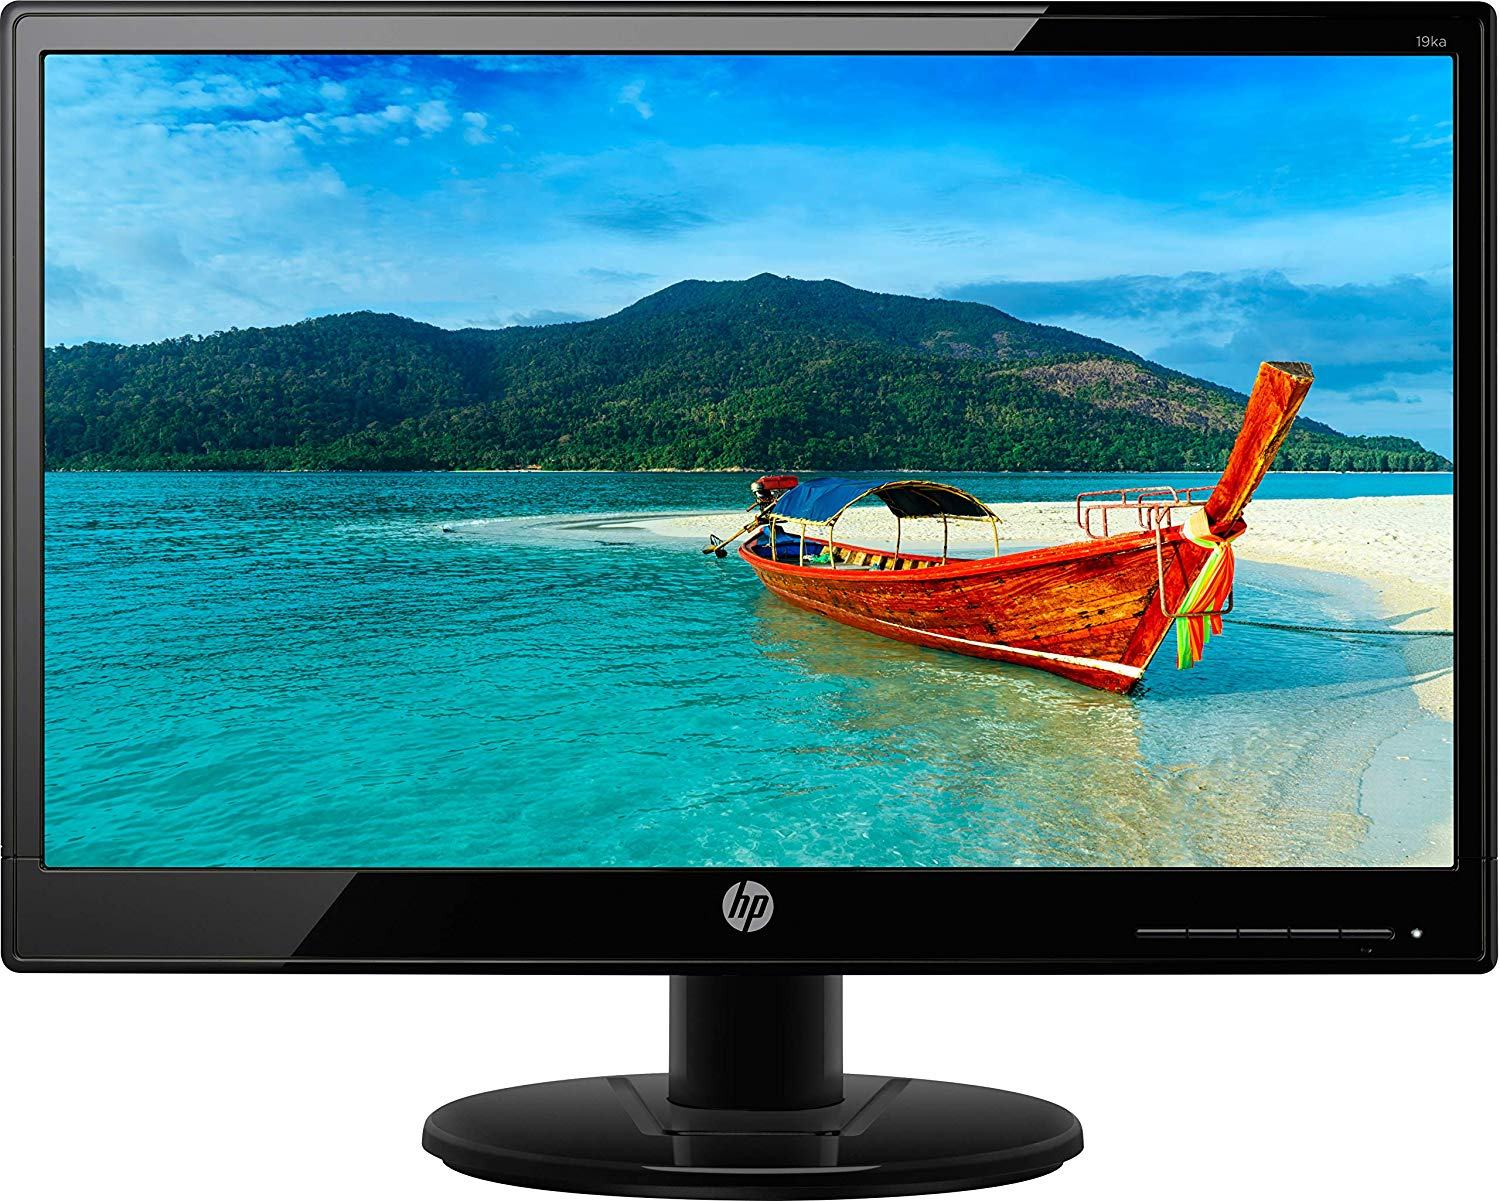hp-monitor-19ka: (5, 13, 1493, 1201)
